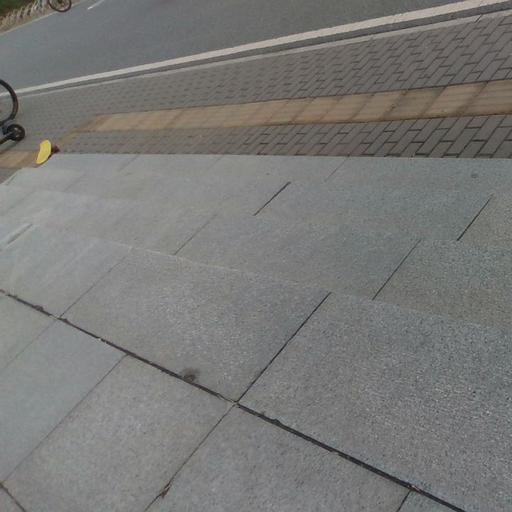stairs: (0, 155, 511, 510)
